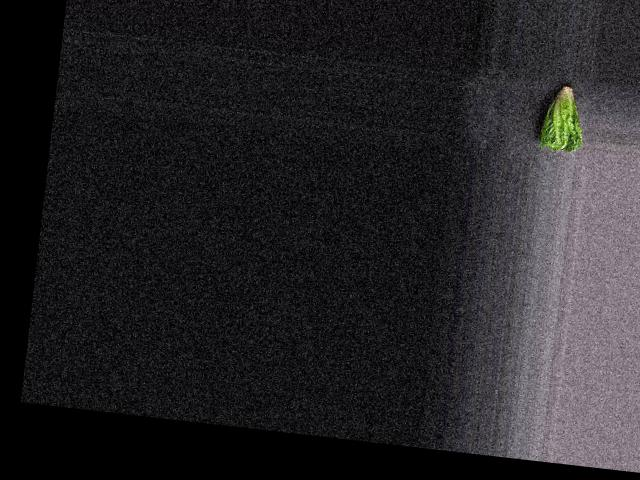lettuce: (536, 78, 590, 153)
